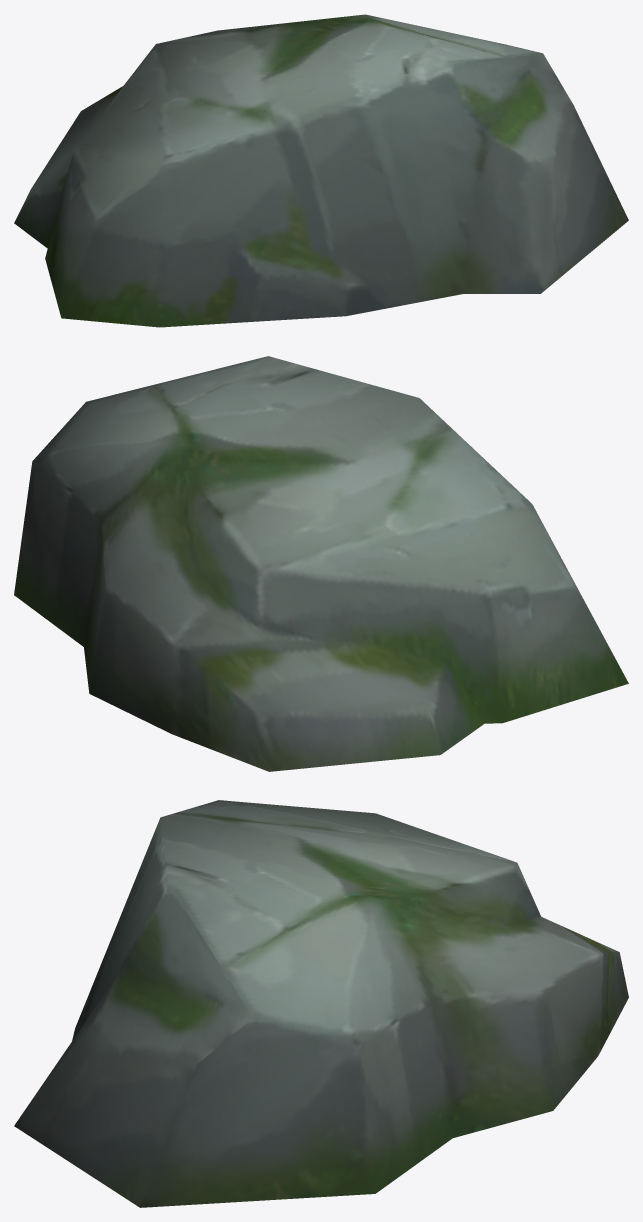
Rendered from scene_shenmisenlin_strone06.FBX.
3 views of the same model, one above another, from view 1: azimuth 30°, elevation 25°; view 2: azimuth 150°, elevation 25°; view 3: azimuth 270°, elevation 25° (orthographic). The views are drawn at different scales.
Parts seen in each view (by area): view 1: scene_shenmisenlin_strone06; view 2: scene_shenmisenlin_strone06; view 3: scene_shenmisenlin_strone06.
Part boxes in pixels (x1,y1,x2,y2): scene_shenmisenlin_strone06: (14, 14, 628, 327); scene_shenmisenlin_strone06: (14, 356, 628, 771); scene_shenmisenlin_strone06: (14, 800, 628, 1207).
Size of the model in its own units: 501 by 172 by 427.
